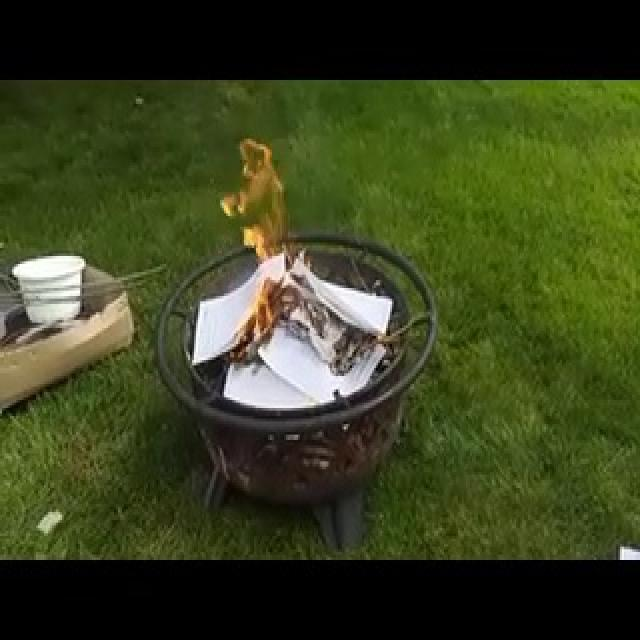Fire: (221, 169, 315, 372)
